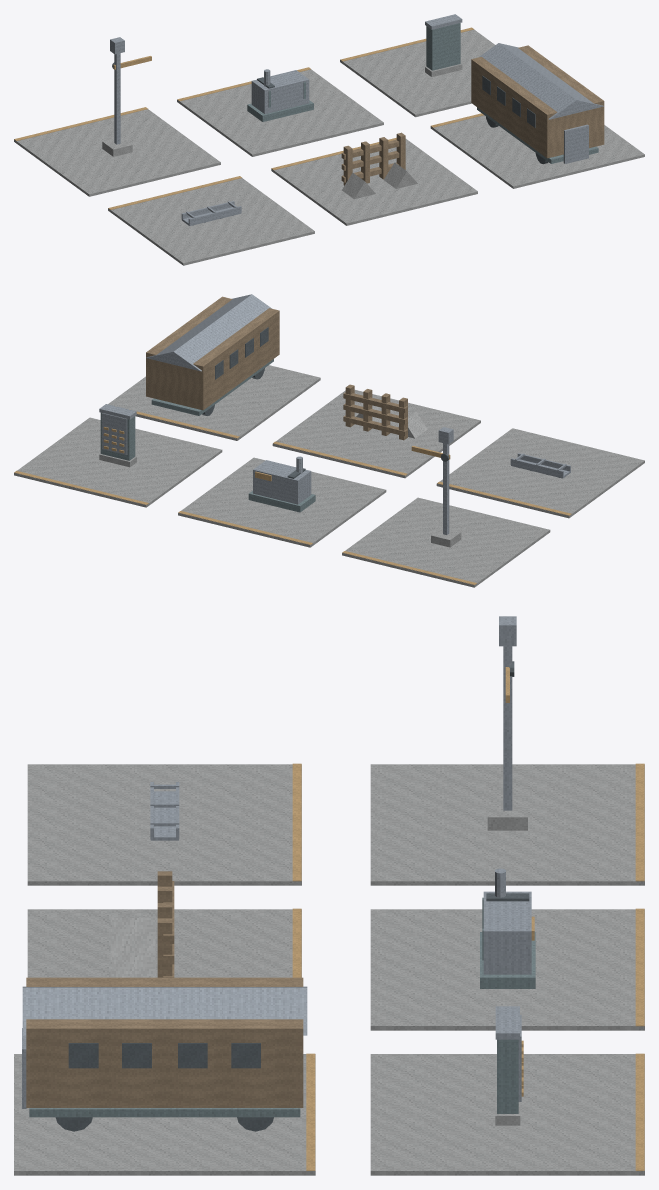
Rendered from level_blockout_kit_wld_12_p01.glb.
3 views of the same model, one above another, from view 1: azimuth 30°, elevation 25°; view 2: azimuth 150°, elevation 25°; view 3: azimuth 270°, elevation 25° (orthographic). The views are drawn at different scales.
Visible parts, largest first — view 1: level_blockout_kit_wld_12_p01; view 2: level_blockout_kit_wld_12_p01; view 3: level_blockout_kit_wld_12_p01.
Boxes of the visible parts, x1,y1,x2,y2 form: level_blockout_kit_wld_12_p01: (14,14,644,265); level_blockout_kit_wld_12_p01: (14,294,644,587); level_blockout_kit_wld_12_p01: (14,616,644,1175).
Bounding box in the file's own units: 19.65 × 4.64 × 12.88.
6 materials, 6 textured.
